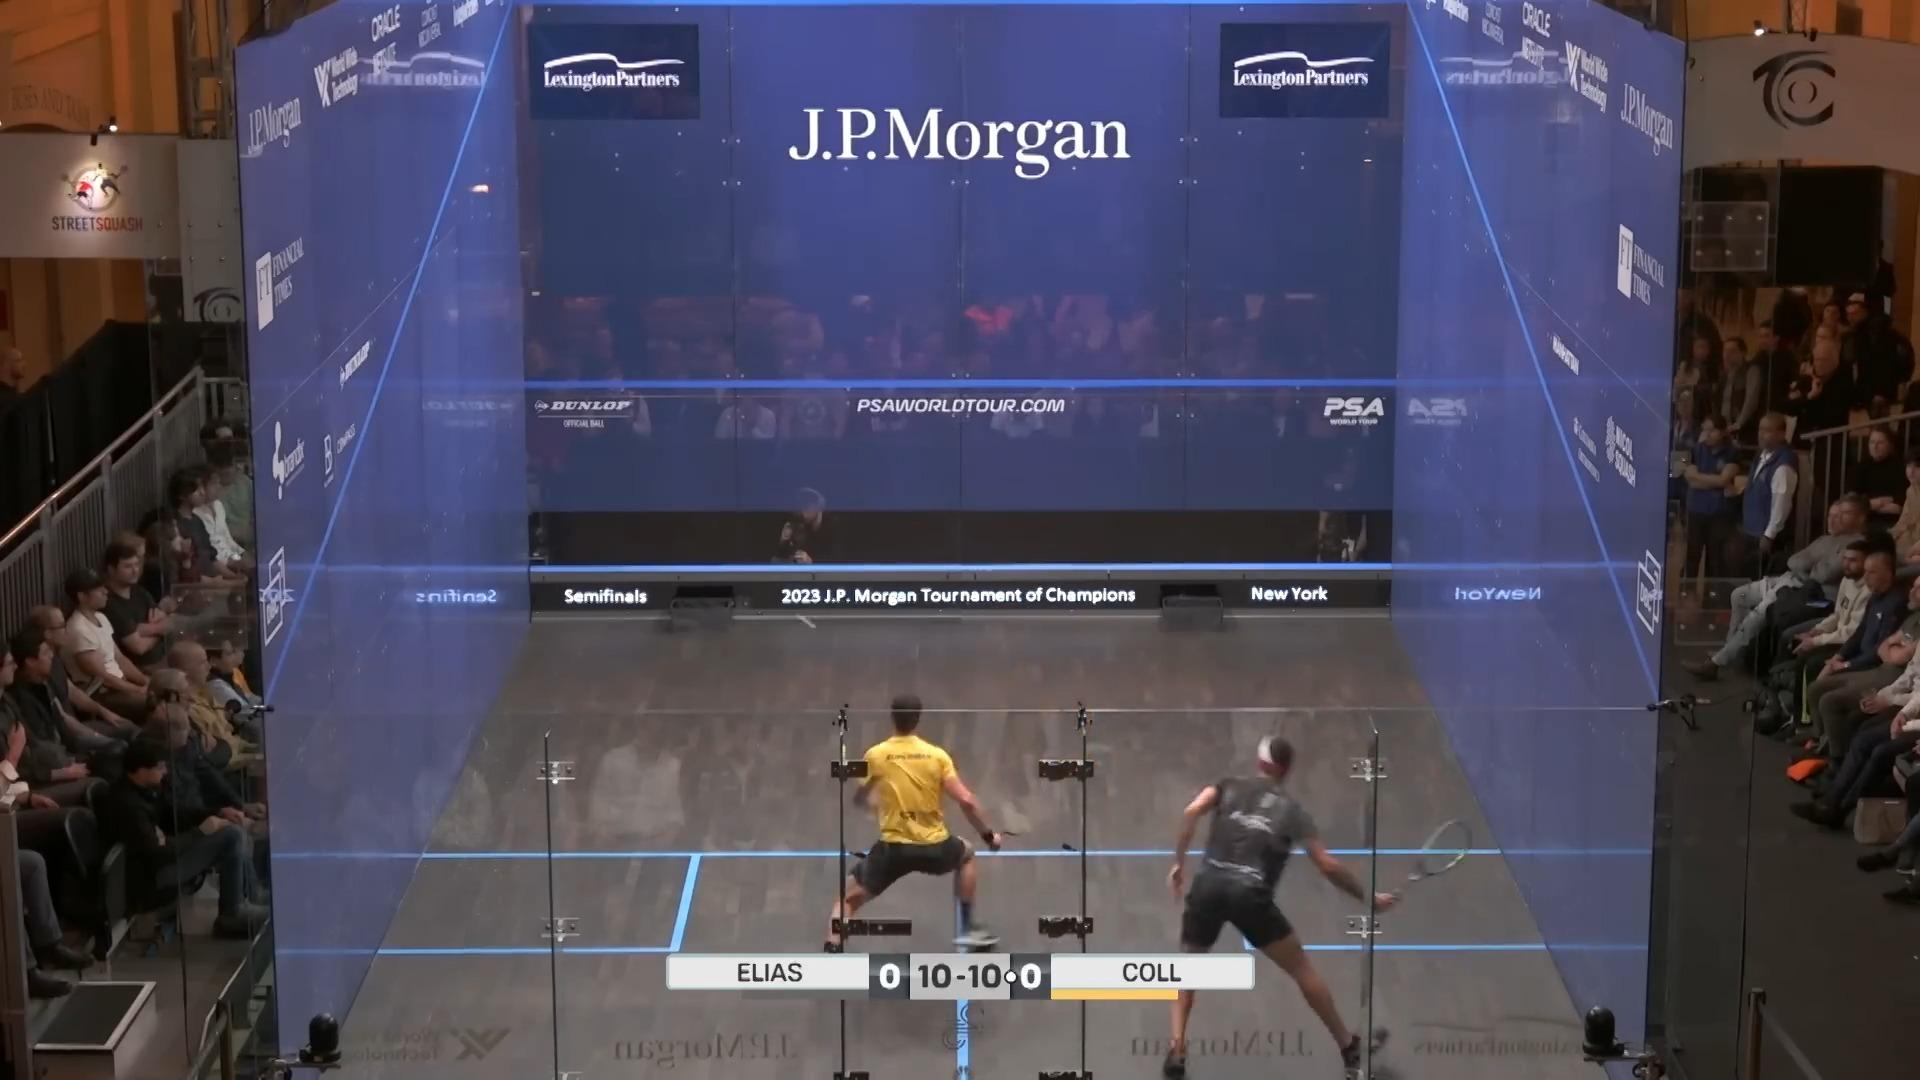Racket: (1370, 811, 1478, 909)
